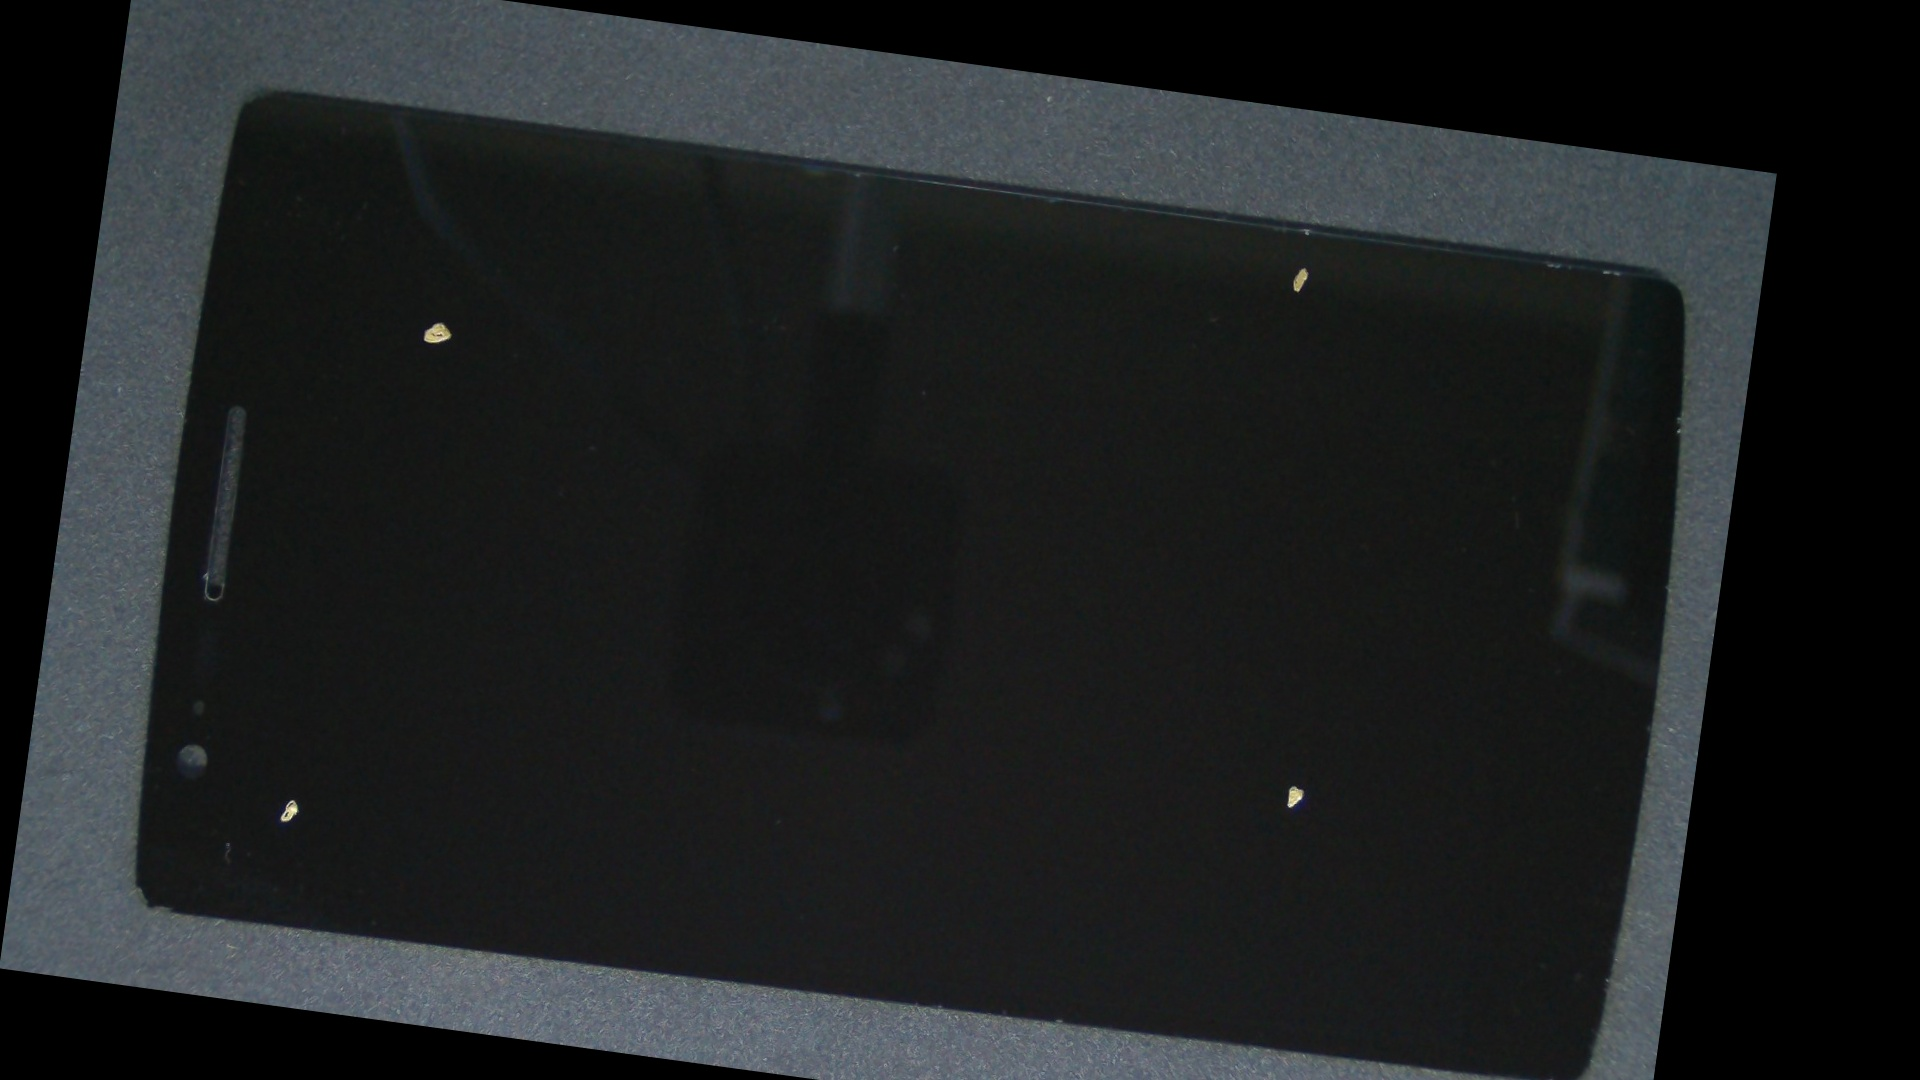oil: (629, 363, 1733, 1080), (702, 107, 1767, 404), (132, 373, 476, 1022), (248, 136, 644, 506)
